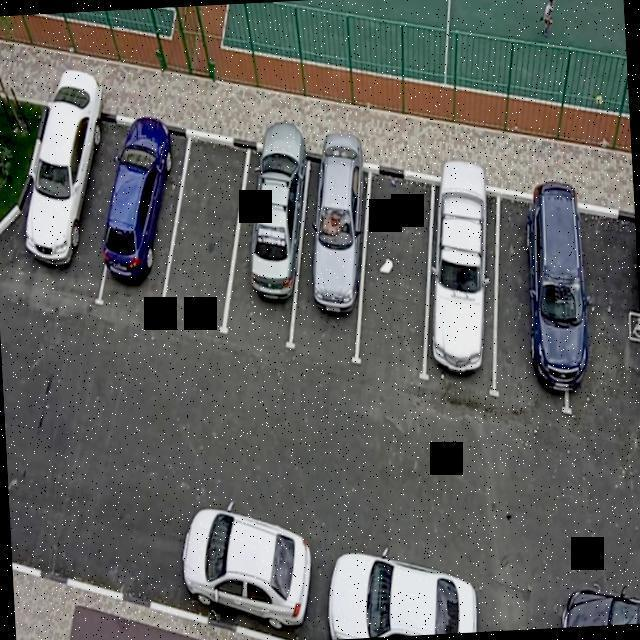space-empty: (160, 121, 248, 343), (357, 164, 434, 398)
space-occupied: (98, 101, 188, 327), (488, 185, 578, 411), (416, 176, 509, 390), (559, 206, 640, 430), (232, 115, 304, 358), (19, 104, 116, 279), (295, 126, 361, 378), (624, 217, 640, 421)
